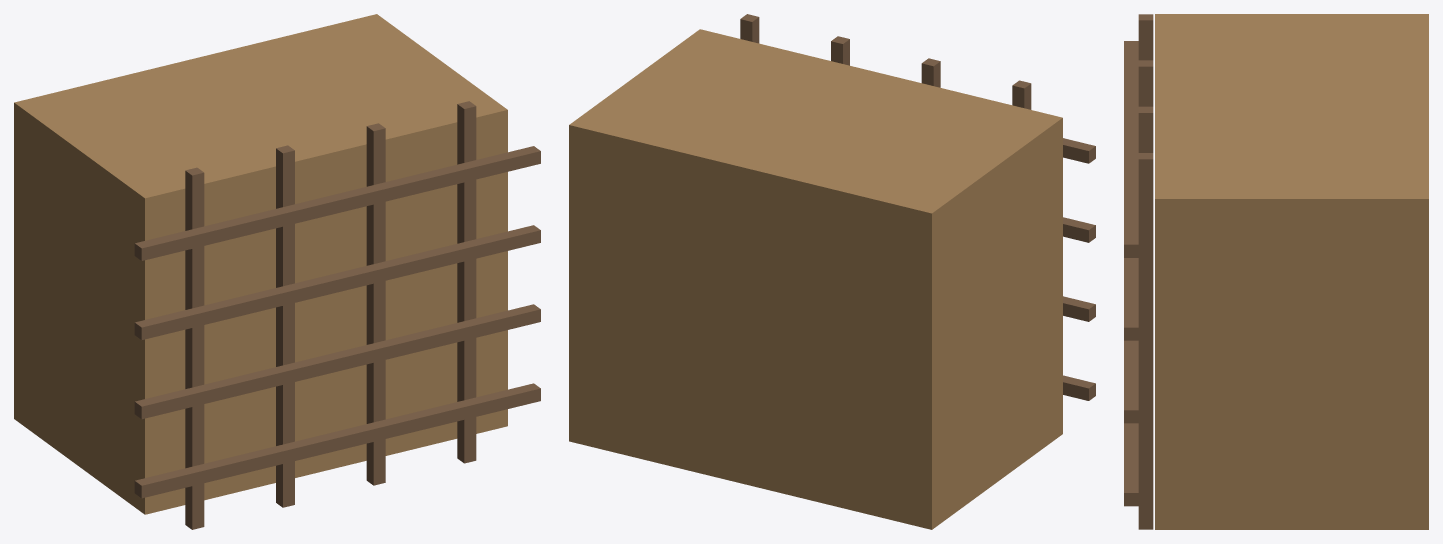
File: skyship_cargo_net.glb
3 renders of one model, left to right at view 1: azimuth 30°, elevation 25°; view 2: azimuth 150°, elevation 25°; view 3: azimuth 270°, elevation 25°, orthographic. The views are drawn at different scales.
Parts seen in each view (by area): view 1: cargo_box, net_y_1, net_y_3, net_y_0, net_y_2, net_x_2, net_x_0, net_x_3, net_x_1; view 2: cargo_box, net_y_1, net_y_3, net_y_0, net_y_2; view 3: cargo_box, net_x_3, net_y_3, net_y_0, net_y_1, net_y_2, net_x_1, net_x_0, net_x_2.
Boxes of the visible parts, x1,y1,x2,y2 form: cargo_box: (14, 14, 507, 514); net_y_1: (134, 304, 540, 419); net_y_3: (134, 146, 540, 260); net_y_0: (134, 383, 540, 498); net_y_2: (134, 225, 540, 339); net_x_2: (366, 123, 385, 485); net_x_0: (185, 167, 204, 529); net_x_3: (457, 101, 476, 463); net_x_1: (276, 145, 294, 507); cargo_box: (569, 29, 1062, 529); net_y_1: (1063, 296, 1095, 321); net_y_3: (1063, 138, 1095, 163); net_y_0: (1063, 375, 1095, 400); net_y_2: (1063, 217, 1095, 242); cargo_box: (1155, 14, 1428, 529); net_x_3: (1138, 153, 1153, 529); net_y_3: (1124, 41, 1138, 257); net_y_0: (1124, 423, 1138, 506); net_y_1: (1124, 340, 1138, 423); net_y_2: (1124, 258, 1138, 340); net_x_1: (1138, 60, 1153, 106); net_x_0: (1138, 14, 1153, 60); net_x_2: (1138, 106, 1153, 152).
Bounding box in the file's own units: 1.32 × 1.12 × 0.835.
